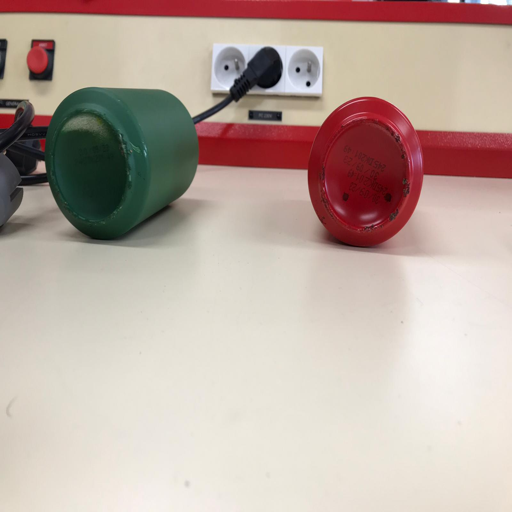Green_Can: (41, 83, 199, 242)
Red_Can: (303, 93, 422, 248)
